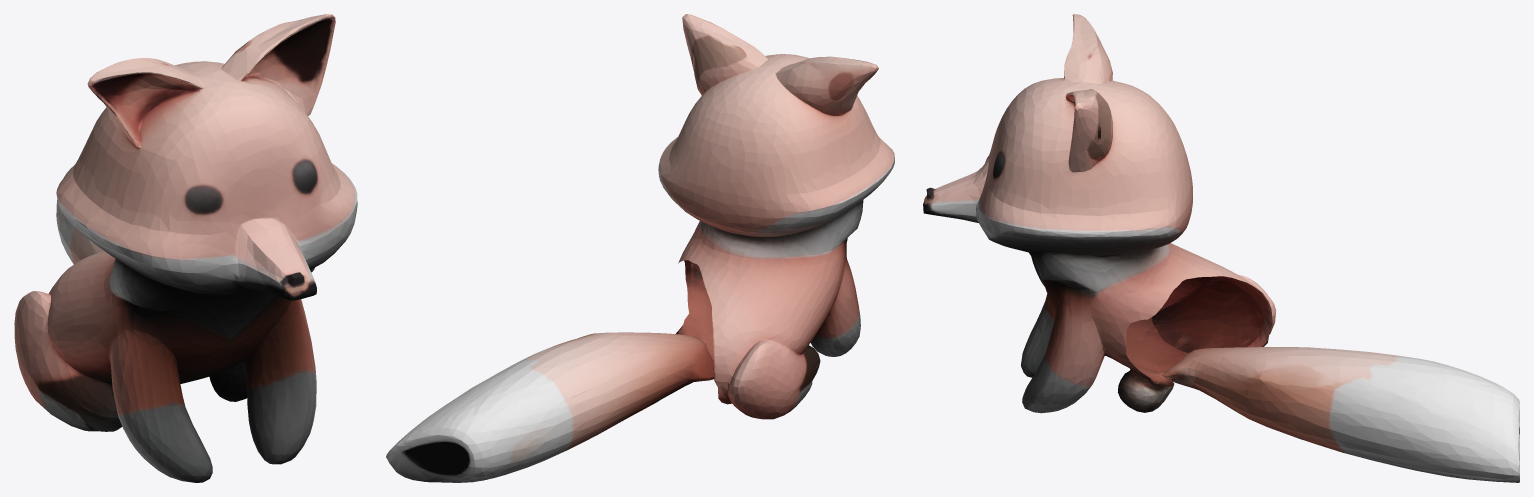
The model's file is appearance_edited_mesh.glb.
The picture shows the model from 3 angles, left to right: view 1: azimuth 30°, elevation 25°; view 2: azimuth 150°, elevation 25°; view 3: azimuth 270°, elevation 25°; orthographic projection. The views are drawn at different scales.
Visible parts, largest first — view 1: world; view 2: world; view 3: world.
Part boxes in pixels (x1=…): world: x1=14, y1=14, x2=357, y2=482; world: x1=386, y1=14, x2=894, y2=482; world: x1=923, y1=14, x2=1519, y2=482.
Bounding box in the file's own units: 0.49 × 0.5531 × 0.8611.
Materials: 1 (1 with a texture image).
